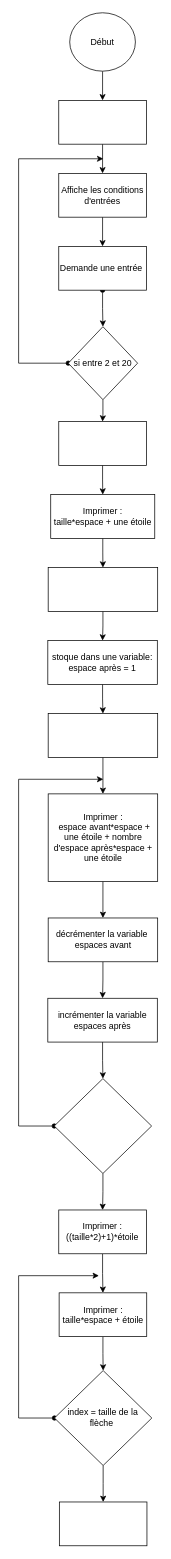
The diagram is 171 pixels wide and 1559 high, and some of its shapes have lost their labels. Each missing label, with the centre of its shape:
"Fin" goes at point 103,1523.
"index = taille de la flèche -1" goes at point 103,1125.
"stoque dans une variable: espace avant = taille de flèche -1" goes at point 102,589.
"stoque dans une variable: taille du corp de la flèche = taille -1" goes at point 102,735.
"stoque l'entrée dans une variable : taille" goes at point 102,443.
"Stoque un espace dans une variable" goes at point 102,122.
